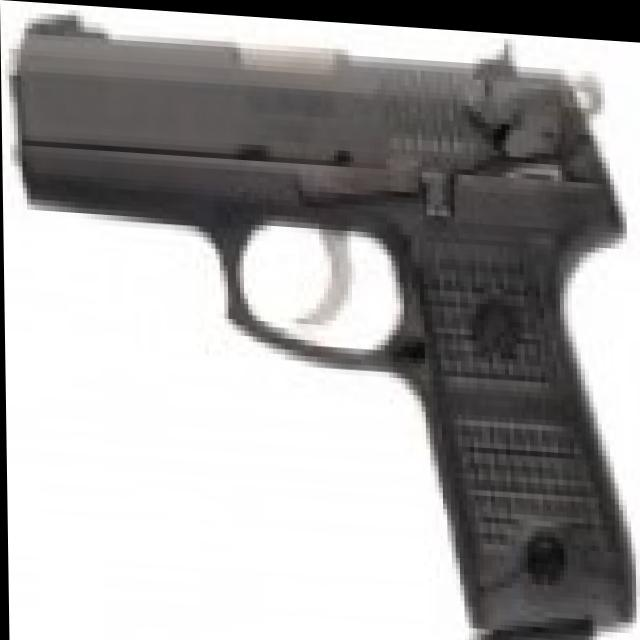handgun: (12, 1, 635, 640)
